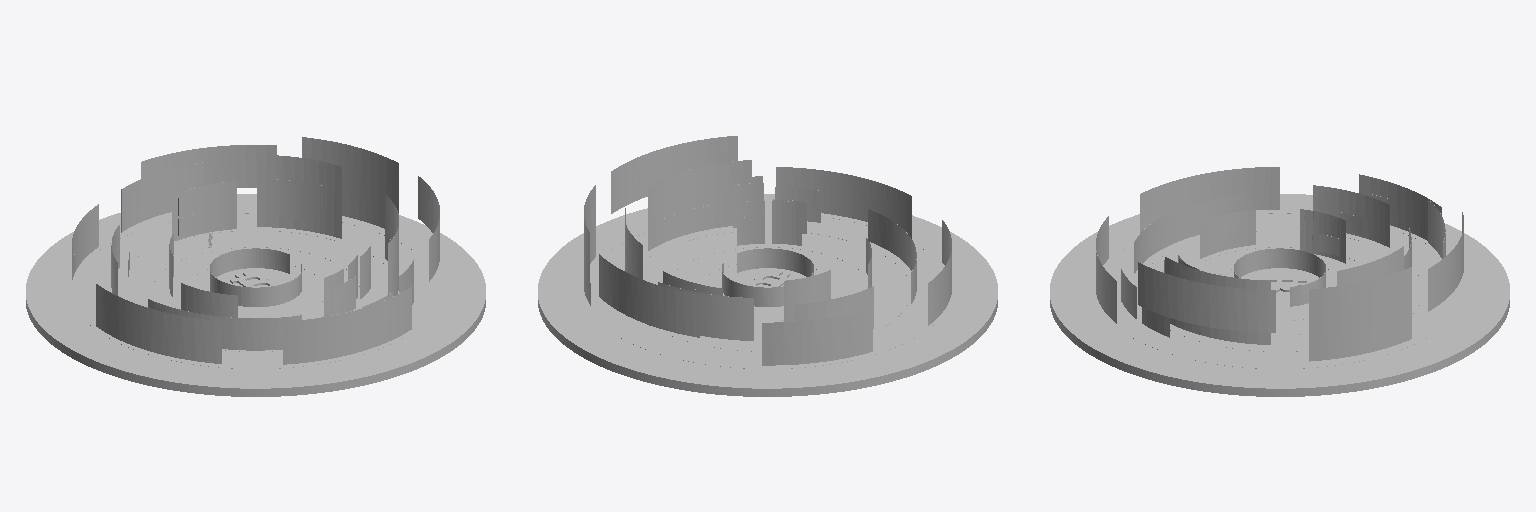
The model's file is SECRET PROJECT X2.obj.
The picture shows the model from 3 angles: view 1: azimuth 30°, elevation 25°; view 2: azimuth 150°, elevation 25°; view 3: azimuth 270°, elevation 25°; orthographic projection.
Parts seen in each view (by area): view 1: BITCOIN_GUSTAVE_COURBET; view 2: BITCOIN_GUSTAVE_COURBET; view 3: BITCOIN_GUSTAVE_COURBET.
Boxes of the visible parts, box(x1,y1,x2,y2) form: BITCOIN_GUSTAVE_COURBET: box(26, 137, 485, 396); BITCOIN_GUSTAVE_COURBET: box(538, 136, 997, 396); BITCOIN_GUSTAVE_COURBET: box(1050, 167, 1509, 396).
Size of the model in its own units: 50.03 by 10.45 by 50.